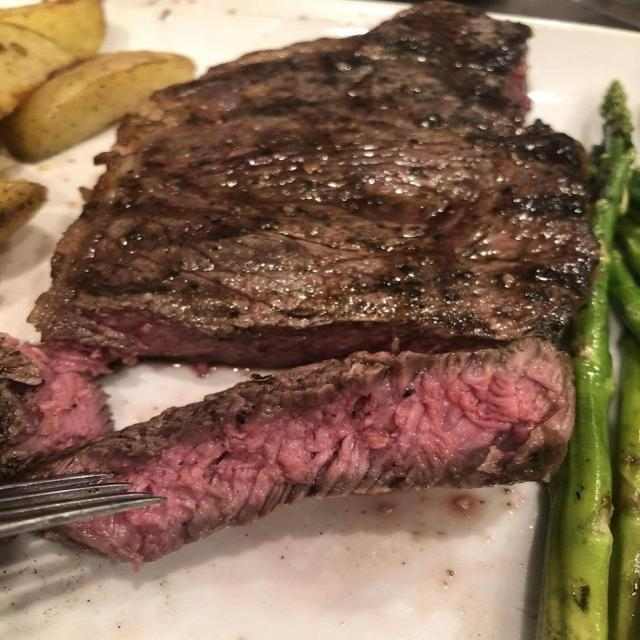asparagus: (537, 83, 634, 639)
beef steak: (29, 3, 597, 367), (24, 338, 574, 566), (0, 333, 111, 480)
boiled potato: (2, 52, 193, 161), (0, 23, 78, 119)
